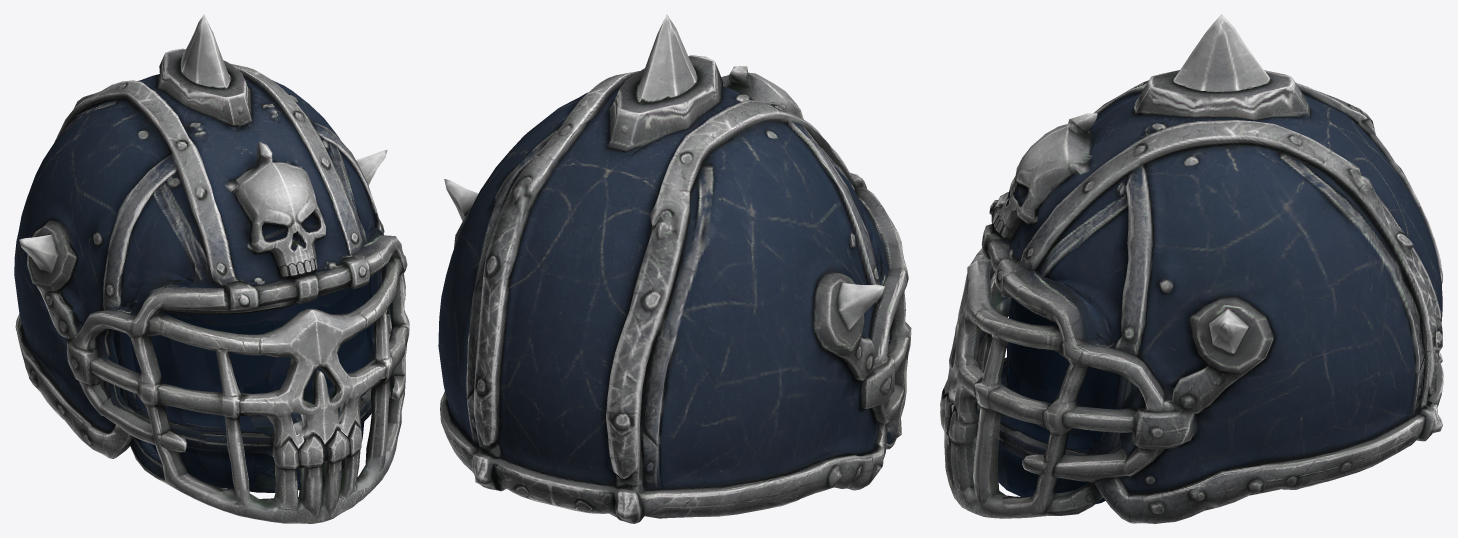
File: helmet_def.glb
3 views of the same model, side by side, from view 1: azimuth 30°, elevation 25°; view 2: azimuth 150°, elevation 25°; view 3: azimuth 270°, elevation 25° (orthographic). The views are drawn at different scales.
Bounding box in the file's own units: 1.82 × 2 × 1.9.
1 material, 1 textured.
